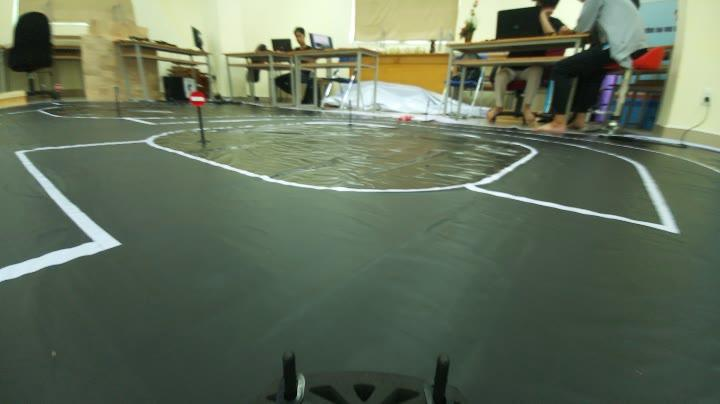no_entry: (187, 89, 213, 110)
